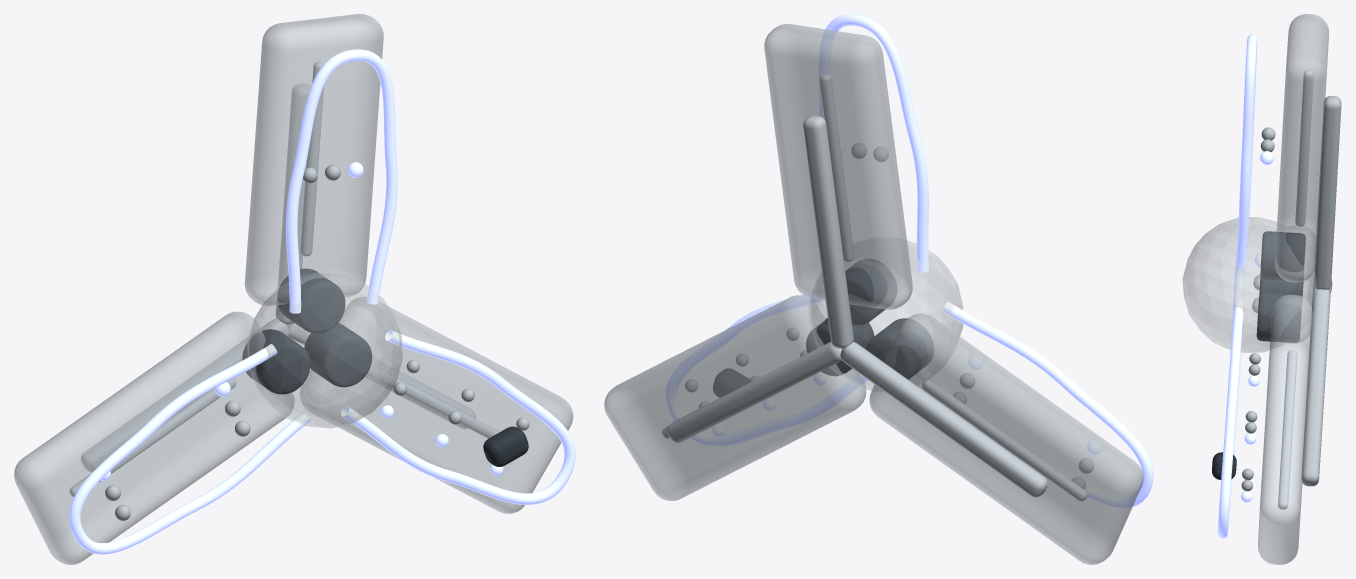
Rendered from stellar-ritual-loom.glb.
The picture shows the model from 3 angles, left to right: view 1: azimuth 30°, elevation 25°; view 2: azimuth 150°, elevation 25°; view 3: azimuth 270°, elevation 25°; orthographic projection. The views are drawn at different scales.
Parts seen in each view (by area): view 1: LoomLeafMorningGlass, LoomLeafAfternoonGlass, LoomLeafEveningGlass, LoomPrism, LoomFilament_2, LoomFilament_1, LoomFilament_3, Hinge_3, SpineArm_2, Hinge_2, StellarRitualLoom, Hinge_1 (+6 smaller); view 2: LoomLeafAfternoonGlass, LoomLeafMorningGlass, LoomLeafEveningGlass, LoomPrism, SpineArm_2, SpineArm_1, LoomFilament_2, LoomFilament_3, LoomFilament_1, SpineArm_3, Hinge_2, Hinge_1 (+5 smaller); view 3: LoomPrism, LoomLeafEveningGlass, LoomLeafMorningGlass, SpineArm_3, SpineArm_1, LoomFilament_3, LoomFilament_1, Hinge_3, Hinge_1, StellarRitualLoom, LoomLeafEveningRail, LoomLeafMorningRail (+4 smaller).
Part boxes in pixels (x1,y1,x2,y2): LoomLeafMorningGlass: (244,14,383,305); LoomLeafAfternoonGlass: (14,311,294,564); LoomLeafEveningGlass: (300,297,573,513); LoomPrism: (247,272,402,428); LoomFilament_2: (69,344,310,554); LoomFilament_1: (286,49,397,313); LoomFilament_3: (341,330,575,504); Hinge_3: (304,323,372,387); SpineArm_2: (81,318,289,472); Hinge_2: (242,329,310,394); StellarRitualLoom: (101,162,529,520); Hinge_1: (277,268,345,333); LoomLeafAfternoonGlass: (869,313,1143,564); LoomLeafMorningGlass: (764,24,912,309); LoomLeafEveningGlass: (604,295,866,500); LoomPrism: (809,238,963,391); SpineArm_2: (840,342,1047,497); SpineArm_1: (803,115,853,348); LoomFilament_2: (916,301,1153,507); LoomFilament_3: (666,292,867,445); LoomFilament_1: (819,14,928,272); SpineArm_3: (667,342,842,443); Hinge_2: (866,318,933,379); Hinge_1: (845,259,896,325); LoomPrism: (1182,217,1317,352); LoomLeafEveningGlass: (1258,294,1312,564); LoomLeafMorningGlass: (1275,14,1328,282); SpineArm_3: (1301,289,1330,486); SpineArm_1: (1313,96,1341,289); LoomFilament_3: (1217,301,1244,538); LoomFilament_1: (1236,34,1257,269); Hinge_3: (1256,293,1301,342); Hinge_1: (1260,231,1305,280); StellarRitualLoom: (1241,127,1275,502); LoomLeafEveningRail: (1278,350,1297,509); LoomLeafMorningRail: (1295,70,1313,226).
Size of the model in its own units: 4.31 by 3.98 by 1.25.
